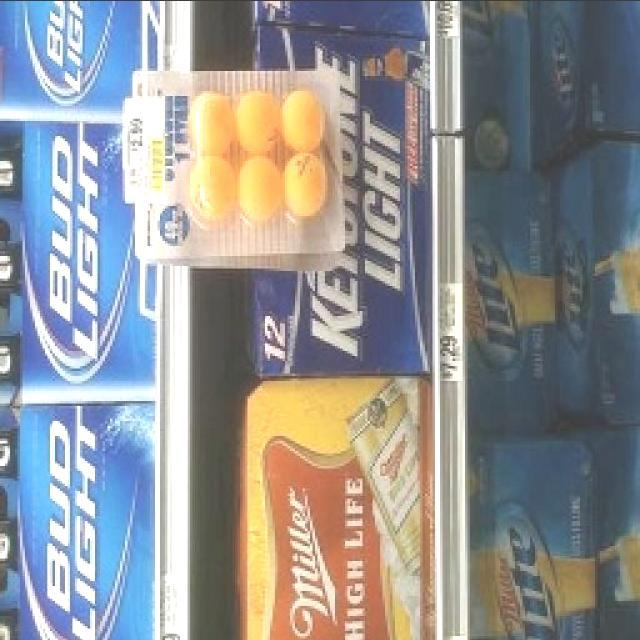oball: (186, 156, 237, 222), (234, 158, 282, 222), (234, 90, 280, 156), (284, 151, 328, 219), (280, 88, 325, 154), (189, 91, 233, 157)
